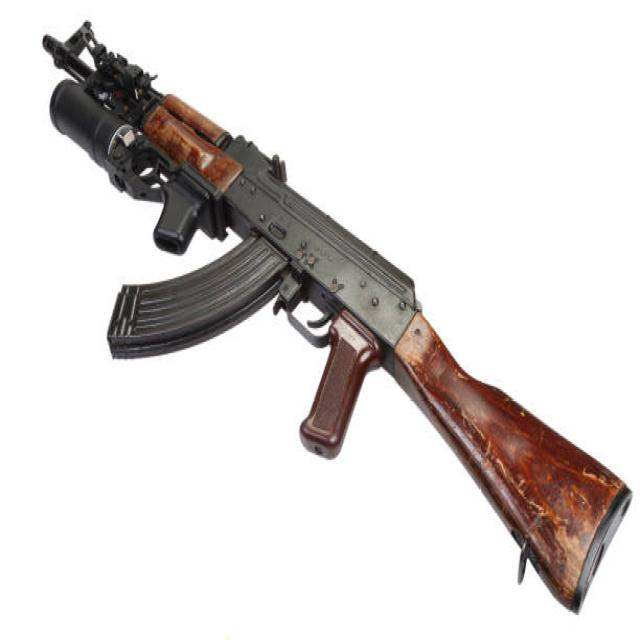rifle: (38, 12, 636, 628)
